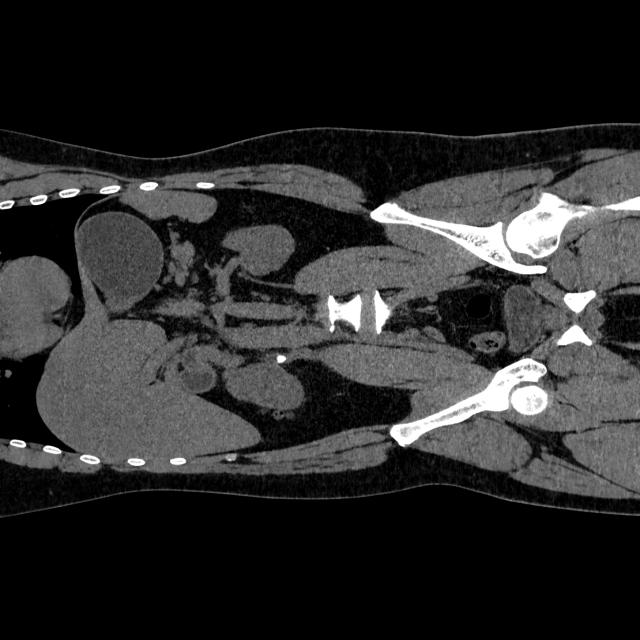kidneystone: (276, 354, 287, 362)
